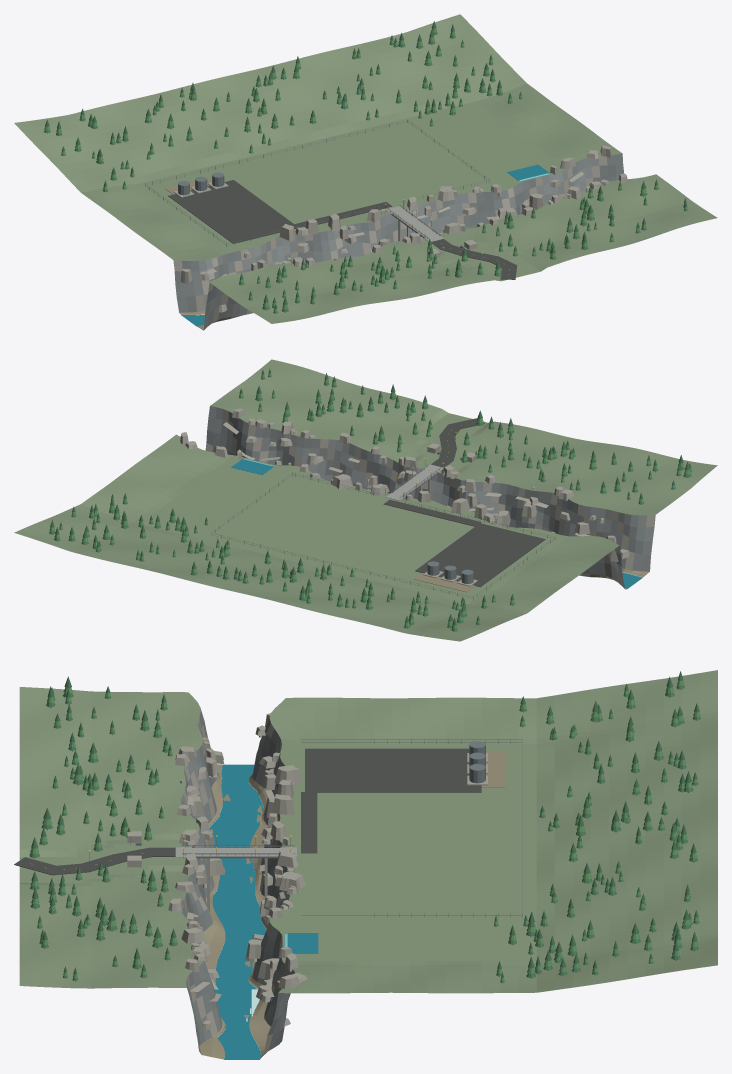
The model's file is Chimera_Environment_QA_Proxies.fbx.
3 views of the same model, one above another, from view 1: azimuth 30°, elevation 25°; view 2: azimuth 150°, elevation 25°; view 3: azimuth 270°, elevation 25° (orthographic). The views are drawn at different scales.
Visible parts, largest first — view 1: ENV_TERRAIN_NORTH__WAREHOUSE_PLATEAU, ENV_TERRAIN_SOUTH__APPROACH_PLATEAU, ENV_CLIFF_NORTH__FACILITY_SIDE, ENV_WEST_SERVICE_YARD, ENV_CLIFF_SOUTH__APPROACH_SIDE, ENV_APPROACH_ROAD_CONTINUOUS_SPLINE_PROXY; view 2: ENV_TERRAIN_NORTH__WAREHOUSE_PLATEAU, ENV_TERRAIN_SOUTH__APPROACH_PLATEAU, ENV_CLIFF_SOUTH__APPROACH_SIDE, ENV_WEST_SERVICE_YARD, ENV_APPROACH_ROAD_CONTINUOUS_SPLINE_PROXY, ENV_CLIFF_NORTH__FACILITY_SIDE, ENV_WEST_SERVICE_ACCESS_LANE; view 3: ENV_TERRAIN_NORTH__WAREHOUSE_PLATEAU, ENV_TERRAIN_SOUTH__APPROACH_PLATEAU, ENV_RIVER_WINDING_WATER_SPLINE_PROXY, ENV_WEST_SERVICE_YARD, ENV_CLIFF_SOUTH__APPROACH_SIDE, ENV_CLIFF_NORTH__FACILITY_SIDE, ENV_RIVER_SOUTH_ERODED_SHORE, ENV_RIVER_NORTH_ERODED_SHORE, ENV_APPROACH_ROAD_CONTINUOUS_SPLINE_PROXY, ENV_WEST_SERVICE_ACCESS_LANE, ENV_BRIDGE_DECK_MAIN, ENV_UTILITY_EQUIPMENT_PAD (+1 smaller).
Part boxes in pixels (left/top/right/bottom): ENV_TERRAIN_NORTH__WAREHOUSE_PLATEAU: left=14, top=14, right=622, bottom=260; ENV_TERRAIN_SOUTH__APPROACH_PLATEAU: left=209, top=174, right=717, bottom=323; ENV_CLIFF_NORTH__FACILITY_SIDE: left=173, top=153, right=623, bottom=312; ENV_WEST_SERVICE_YARD: left=168, top=180, right=298, bottom=243; ENV_CLIFF_SOUTH__APPROACH_SIDE: left=203, top=282, right=253, bottom=330; ENV_APPROACH_ROAD_CONTINUOUS_SPLINE_PROXY: left=431, top=239, right=517, bottom=279; ENV_TERRAIN_NORTH__WAREHOUSE_PLATEAU: left=14, top=434, right=619, bottom=641; ENV_TERRAIN_SOUTH__APPROACH_PLATEAU: left=210, top=359, right=717, bottom=515; ENV_CLIFF_SOUTH__APPROACH_SIDE: left=205, top=406, right=655, bottom=571; ENV_WEST_SERVICE_YARD: left=415, top=523, right=545, bottom=587; ENV_APPROACH_ROAD_CONTINUOUS_SPLINE_PROXY: left=431, top=418, right=484, bottom=467; ENV_CLIFF_NORTH__FACILITY_SIDE: left=581, top=546, right=625, bottom=588; ENV_WEST_SERVICE_ACCESS_LANE: left=383, top=499, right=481, bottom=526; ENV_TERRAIN_NORTH__WAREHOUSE_PLATEAU: left=269, top=670, right=717, bottom=993; ENV_TERRAIN_SOUTH__APPROACH_PLATEAU: left=19, top=687, right=203, bottom=988; ENV_RIVER_WINDING_WATER_SPLINE_PROXY: left=209, top=764, right=266, bottom=1059; ENV_WEST_SERVICE_YARD: left=305, top=748, right=481, bottom=792; ENV_CLIFF_SOUTH__APPROACH_SIDE: left=181, top=708, right=221, bottom=1054; ENV_CLIFF_NORTH__FACILITY_SIDE: left=252, top=715, right=294, bottom=1054; ENV_RIVER_SOUTH_ERODED_SHORE: left=199, top=764, right=225, bottom=1059; ENV_RIVER_NORTH_ERODED_SHORE: left=248, top=774, right=270, bottom=1058; ENV_APPROACH_ROAD_CONTINUOUS_SPLINE_PROXY: left=14, top=847, right=175, bottom=875; ENV_WEST_SERVICE_ACCESS_LANE: left=301, top=792, right=317, bottom=853; ENV_BRIDGE_DECK_MAIN: left=192, top=848, right=280, bottom=856; ENV_UTILITY_EQUIPMENT_PAD: left=481, top=752, right=505, bottom=787.
Bounding box in the file's own units: 34000 × 34272 × 6165.
